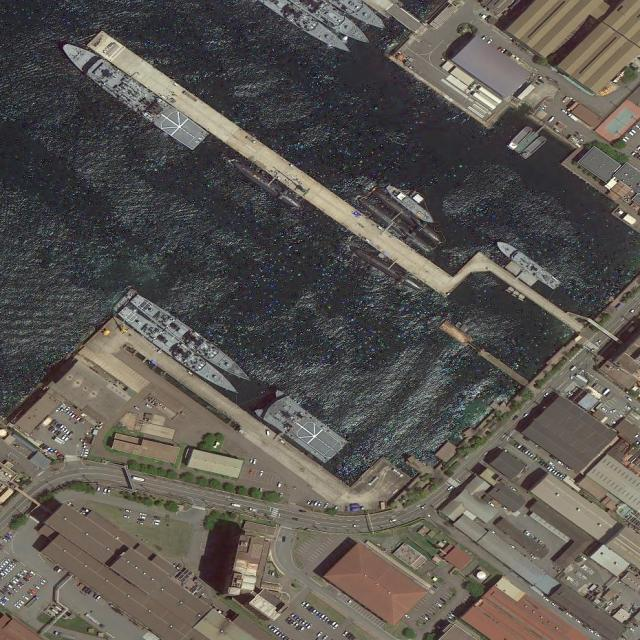Auxiliary Ships: (253, 385, 348, 468)
Destroyer: (114, 301, 248, 403), (125, 290, 257, 389)
Dock: (90, 23, 459, 305)
Landing: (56, 35, 210, 155)
Other Warship: (493, 235, 564, 293), (384, 182, 439, 230)
Submarine: (361, 198, 432, 254), (228, 158, 302, 211), (373, 187, 442, 242), (347, 243, 424, 292)
